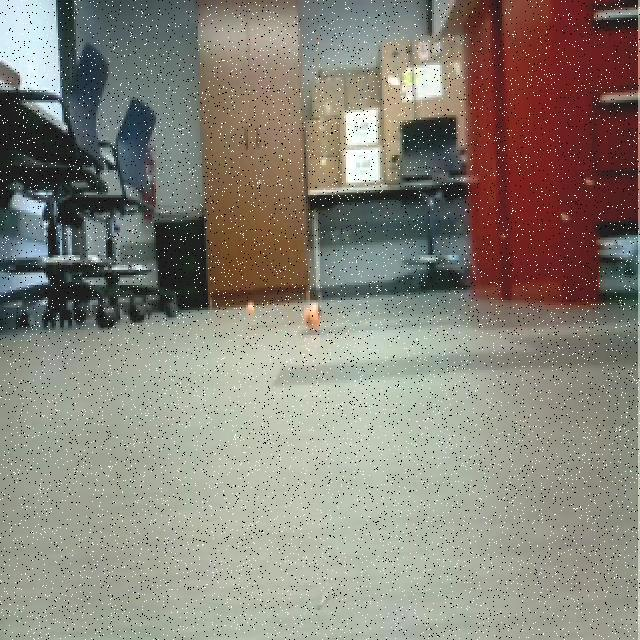ping-pong-ball: (298, 301, 328, 336), (241, 296, 261, 321)
